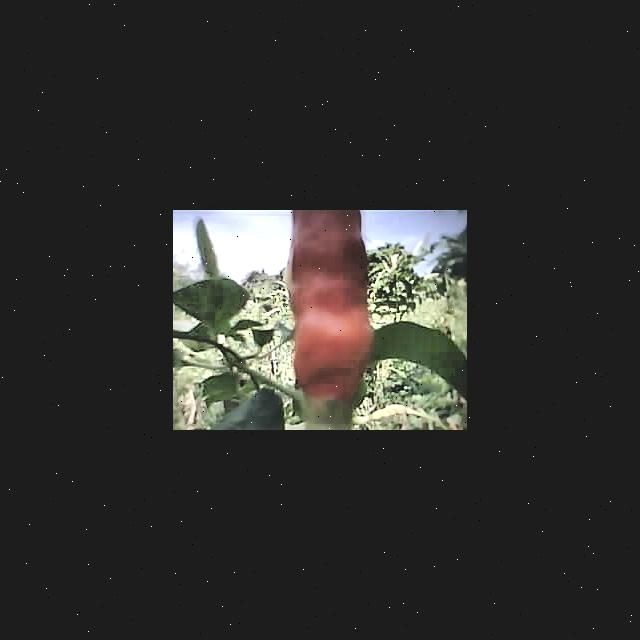Cabai: (292, 210, 367, 400)
